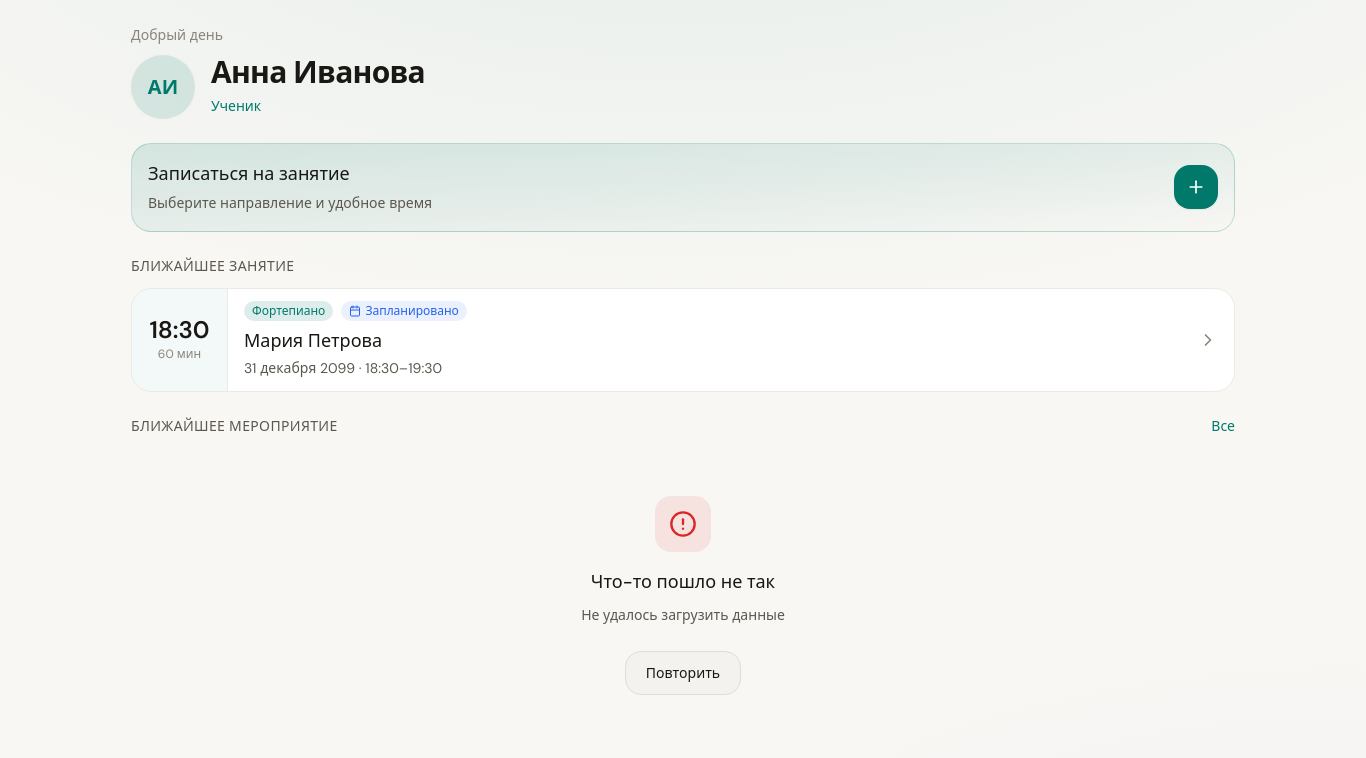
HomePage P0 › shows ErrorState with retry on events error
The image size is (1366, 758).
Expected: the heading "Что-то пошло не так" is shown, x1=591 y1=568 x2=775 y2=596
Click the button "Повторить": (683, 673) x1=625 y1=651 x2=741 y2=695
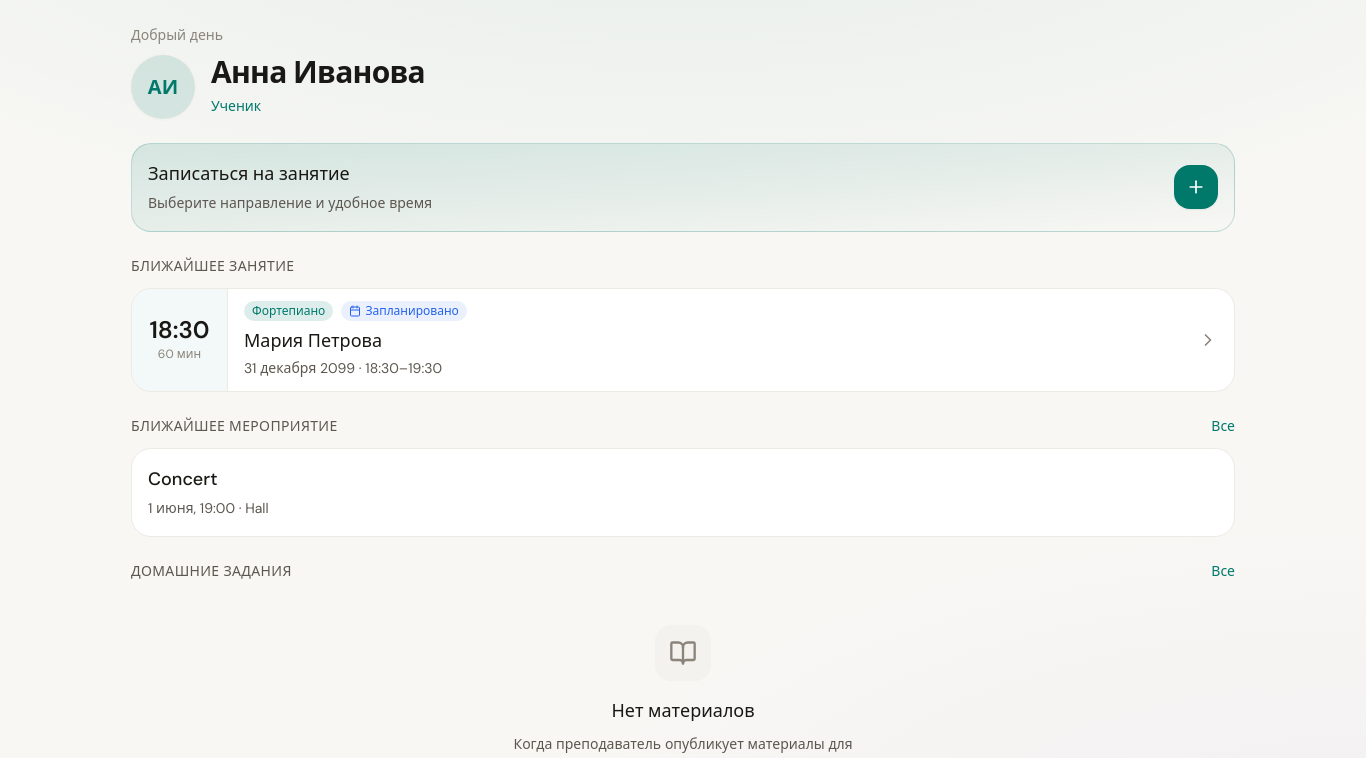
Now the text "Concert" is shown, box x1=148 y1=467 x2=218 y2=491
